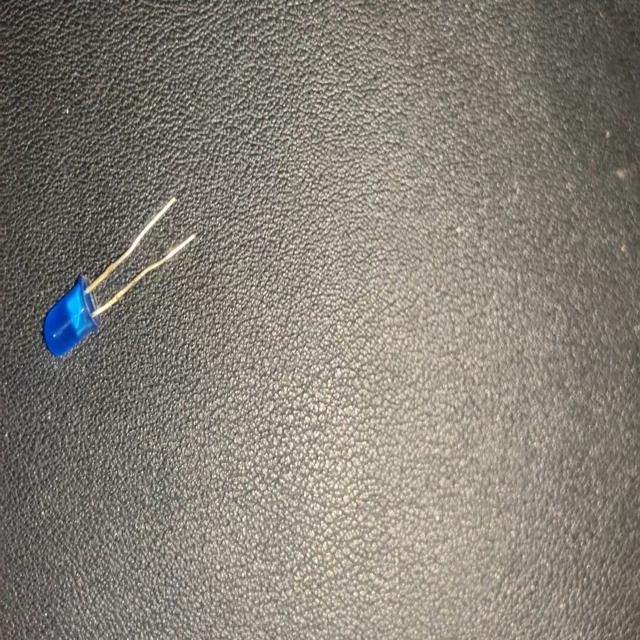LED: (43, 193, 196, 359)
